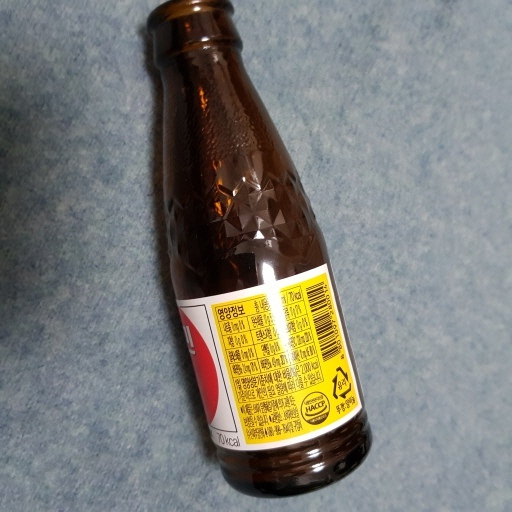Glass_3: (139, 1, 373, 500)
